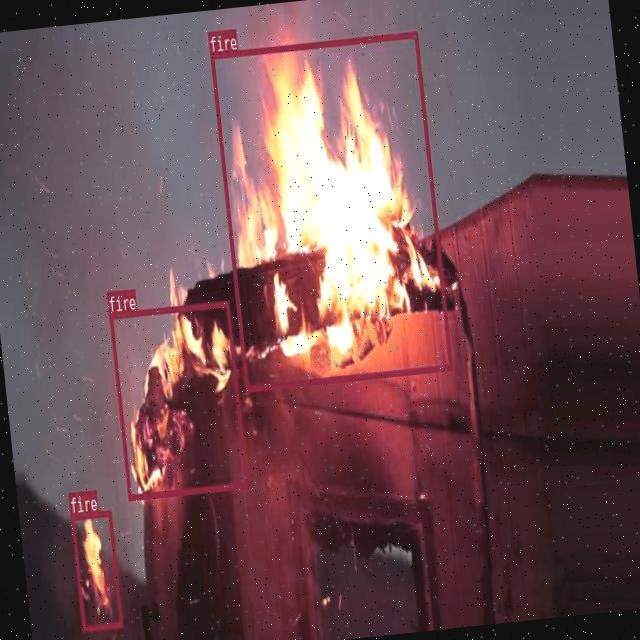fire: (209, 29, 452, 390), (108, 300, 248, 500), (69, 509, 122, 630)
